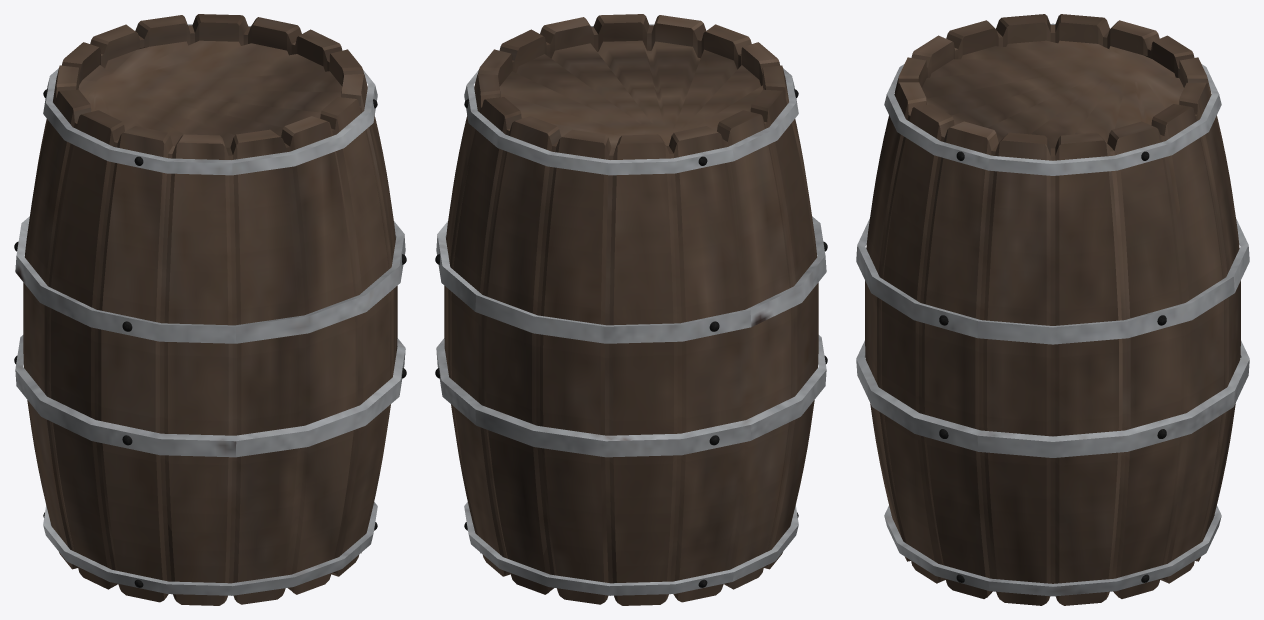
Rendered from C-BOX Send.fbx.
The picture shows the model from 3 angles, left to right: view 1: azimuth 30°, elevation 25°; view 2: azimuth 150°, elevation 25°; view 3: azimuth 270°, elevation 25°; orthographic projection.
Visible parts, largest first — view 1: C-BOX; view 2: C-BOX; view 3: C-BOX.
Part boxes in pixels (bbox=[...]): C-BOX: bbox=[14, 14, 406, 605]; C-BOX: bbox=[435, 14, 827, 605]; C-BOX: bbox=[856, 14, 1249, 605].
Size of the model in its own units: 253 by 328 by 253.
1 material, 1 textured.
